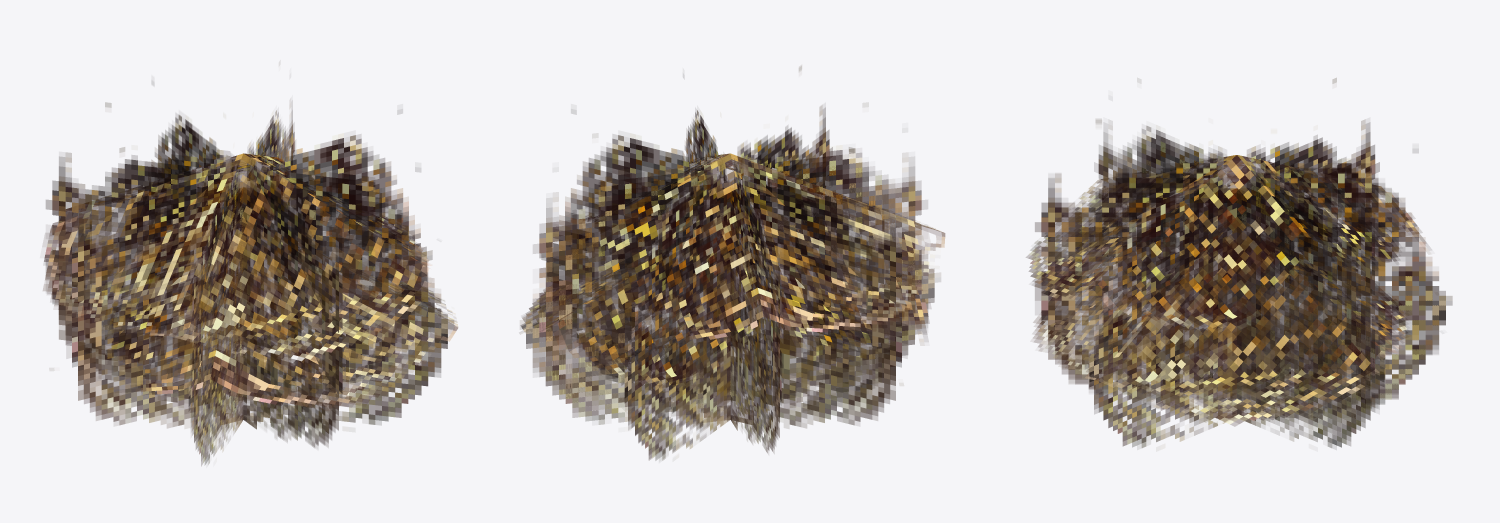
Rendered from Environment - Debris and Ruins - Rubble Mound - Debris - PMTmbWeed02_d.glb.
3 renders of one model, left to right at view 1: azimuth 30°, elevation 25°; view 2: azimuth 150°, elevation 25°; view 3: azimuth 270°, elevation 25°, orthographic.
Visible parts, largest first — view 1: PMTMBWEED02_D; view 2: PMTMBWEED02_D; view 3: PMTMBWEED02_D.
Part boxes in pixels (x1=…): PMTMBWEED02_D: x1=43, y1=102, x2=457, y2=465; PMTMBWEED02_D: x1=520, y1=66, x2=945, y2=462; PMTMBWEED02_D: x1=1026, y1=78, x2=1452, y2=449.
Bounding box in the file's own units: 14.98 × 10.39 × 14.98.
1 material, 1 textured.
